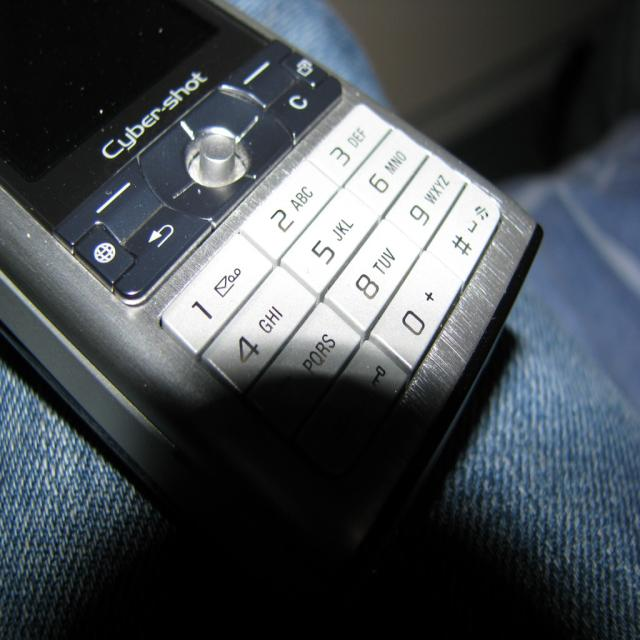Mobile-phone: (0, 0, 548, 589)
